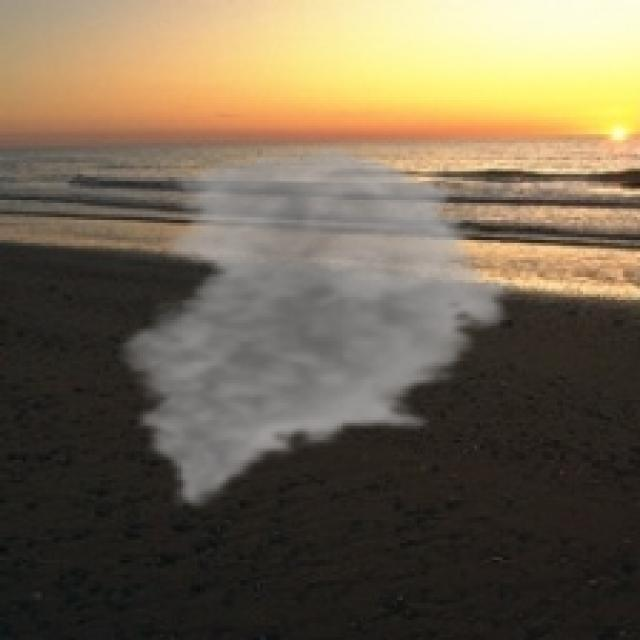Smoke: (108, 143, 523, 512)
